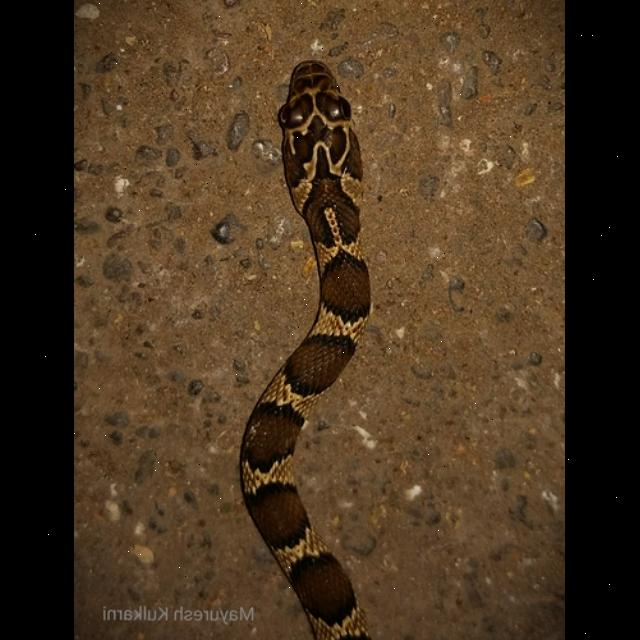snake: (230, 51, 393, 640)
